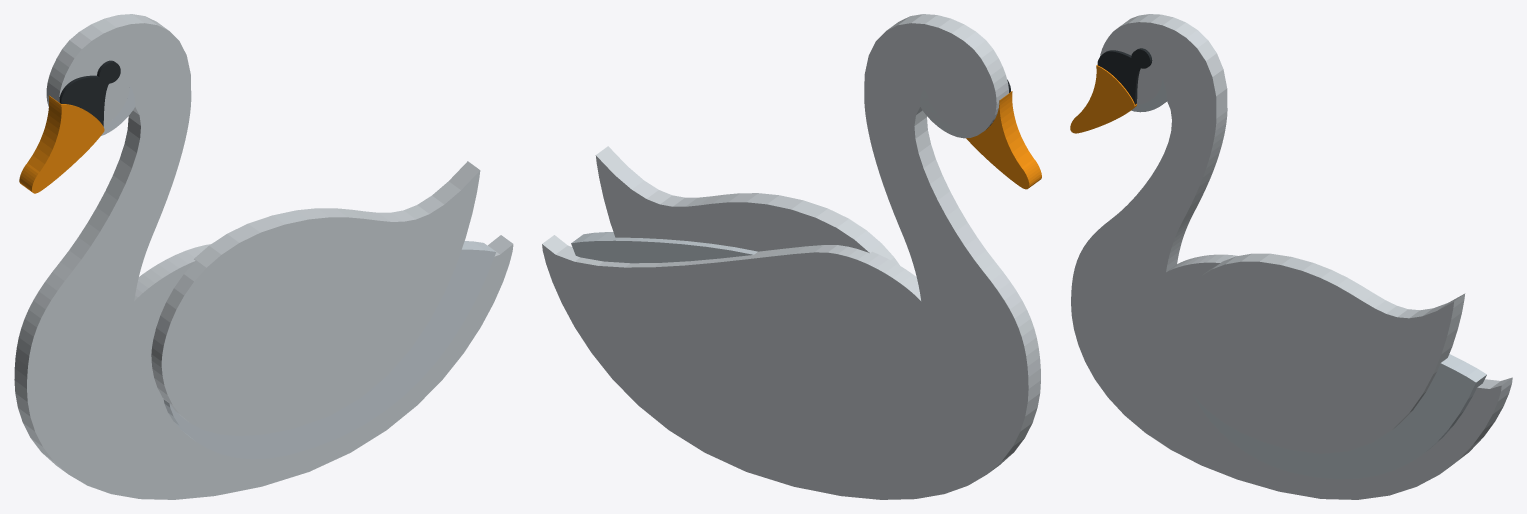
3 views of the same model, side by side, from view 1: azimuth 30°, elevation 25°; view 2: azimuth 150°, elevation 25°; view 3: azimuth 330°, elevation 25° (orthographic). The views are drawn at different scales.
Parts seen in each view (by area): view 1: Curve.005; view 2: Curve.005; view 3: Curve.005.
Boxes of the visible parts, bbox=[...] form: Curve.005: bbox=[14, 14, 513, 499]; Curve.005: bbox=[542, 14, 1041, 499]; Curve.005: bbox=[1070, 14, 1512, 499].
Size of the model in its own units: 0.225 by 0.2186 by 0.0182.
